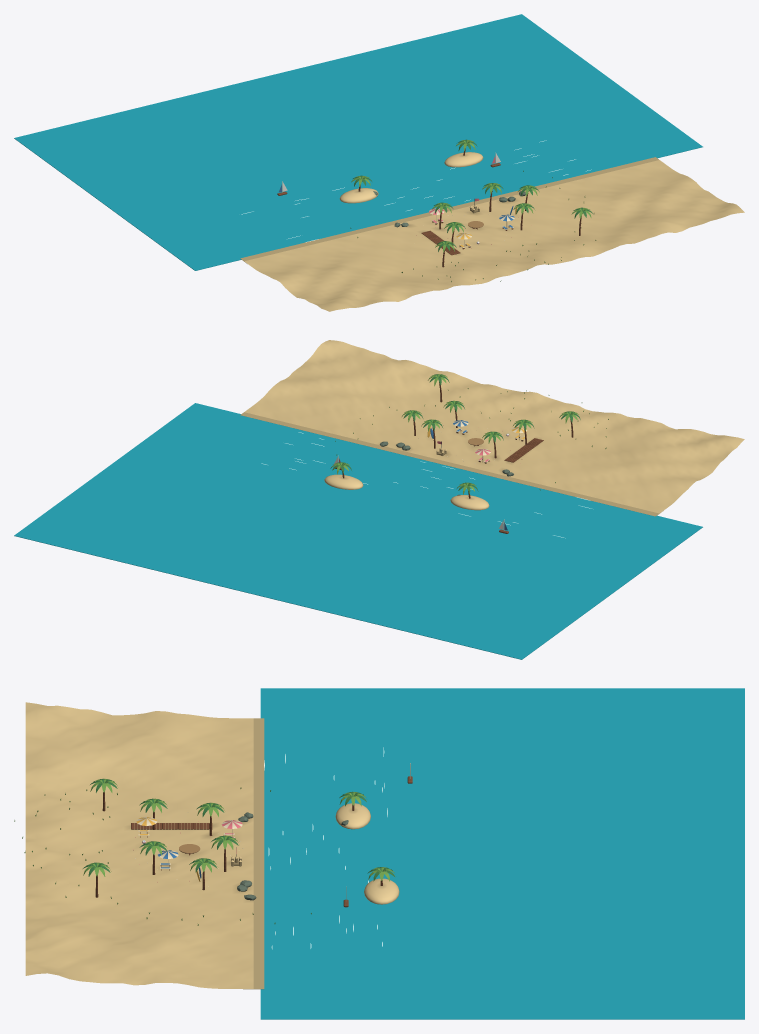
Rendered from praia.glb.
3 views of the same model, one above another, from view 1: azimuth 30°, elevation 25°; view 2: azimuth 150°, elevation 25°; view 3: azimuth 270°, elevation 25° (orthographic). The views are drawn at different scales.
Visible parts, largest first — view 1: praia_agua, praia; view 2: praia_agua, praia; view 3: praia_agua, praia.
Part boxes in pixels (x1,y1,x2,y2): praia_agua: [14, 14, 702, 270]; praia: [240, 139, 744, 311]; praia_agua: [14, 403, 702, 659]; praia: [240, 340, 744, 533]; praia_agua: [260, 688, 744, 1019]; praia: [14, 702, 412, 989].
Bounding box in the file's own units: 110 × 6.3 × 103.
